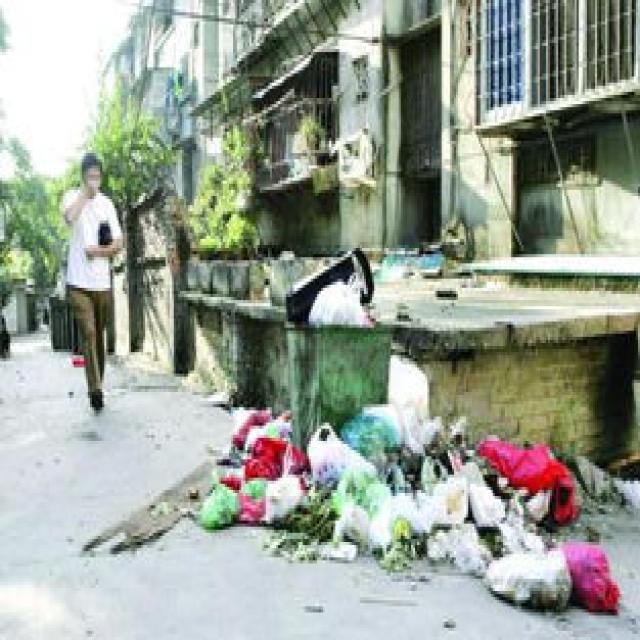garbage: (84, 408, 619, 612)
overflow: (280, 242, 389, 447)
